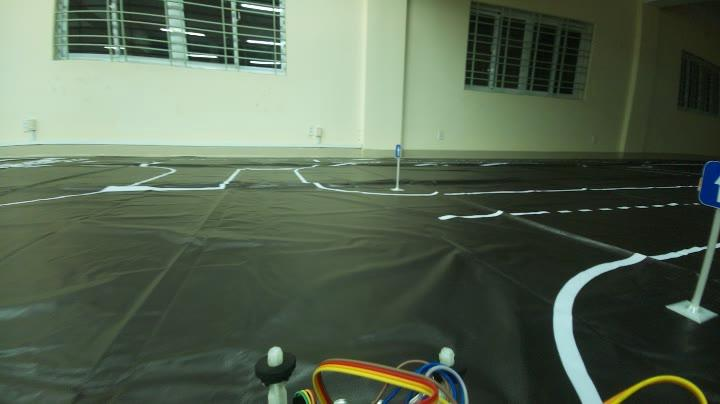onewayroad: (699, 163, 718, 210), (394, 142, 404, 162)
